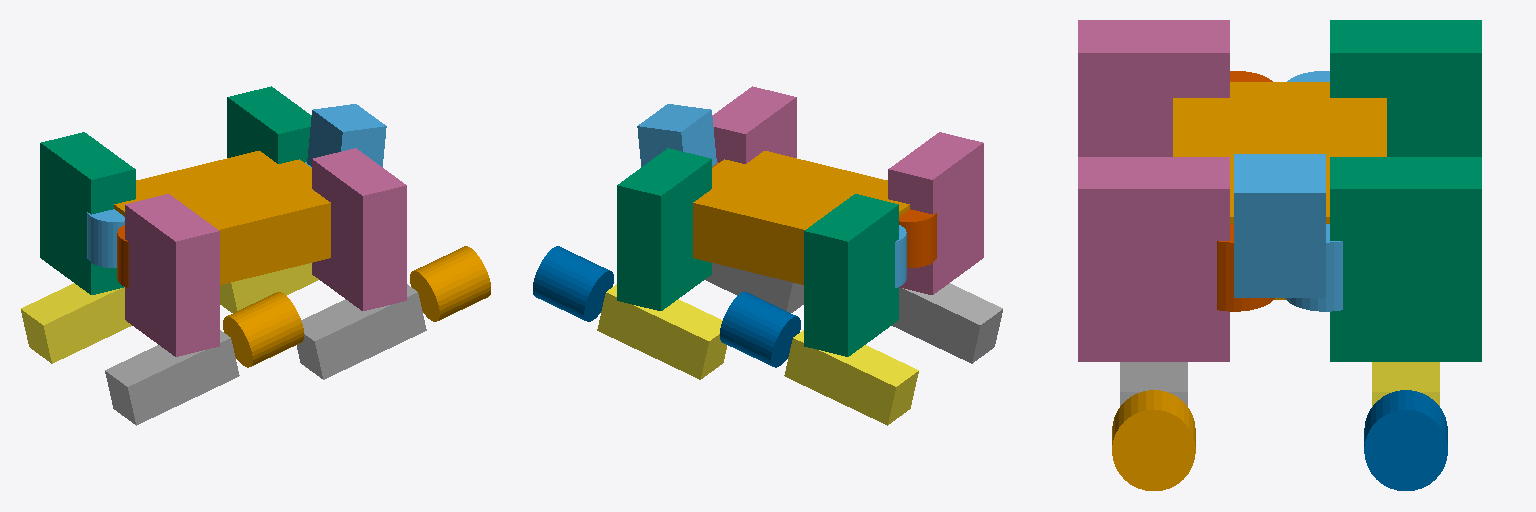
The robot description file, URDF, robot "As2W":
<robot name="As2W">
  <link name="base_link">
    <inertial>
      <origin xyz="0.035002 -0.0007562 0.017521" rpy="0 0 0"/>
      <mass value="10.08"/>
      <inertia ixx="0.05069483" ixy="-0.0002906" ixz="-0.02480435" iyy="0.13822065" iyz="0.00027717" izz="0.1505824"/>
    </inertial>
    <visual><geometry><box size="0.42 0.28 0.12"/></geometry></visual></link>
  <link name="FL_hip">
    <inertial>
      <origin xyz="-0.0046547 -0.0088505 3.4235E-05" rpy="0 0 0"/>
      <mass value="0.75"/>
      <inertia ixx="0.00049181" ixy="3.528E-05" ixz="-1.8E-07" iyy="0.0006194" iyz="9E-07" izz="0.00059384"/>
    </inertial>
    <visual><geometry><cylinder radius="0.055" length="0.10"/></geometry></visual></link>
  <joint name="FL_hip" type="revolute">
    <origin xyz="0.2119 0.06 0" rpy="0 0 0"/>
    <parent link="base_link"/>
    <child link="FL_hip"/>
    <axis xyz="1 0 0"/>
    <limit lower="-0.785" upper="0.785" effort="60" velocity="25"/>
  </joint>
  <link name="FL_thigh">
    <inertial>
      <origin xyz="-0.0060187 -0.02408 -0.037399" rpy="0 0 0"/>
      <mass value="1.41"/>
      <inertia ixx="0.00681859" ixy="0.00023526" ixz="-0.00071654" iyy="0.00613083" iyz="0.00120069" izz="0.00178083"/>
    </inertial>
    <visual><geometry><box size="0.10 0.20 0.25"/></geometry></visual></link>
  <joint name="FL_thigh" type="revolute">
    <origin xyz="0 0.1054 0" rpy="0 0 0"/>
    <parent link="FL_hip"/>
    <child link="FL_thigh"/>
    <axis xyz="0 1 0"/>
    <limit lower="-2" upper="3.492" effort="60" velocity="25"/>
  </joint>
  <link name="FL_calf">
    <inertial>
      <origin xyz="0.0015109 0.0022187 -0.16915" rpy="0 0 0"/>
      <mass value="1.1"/>
      <inertia ixx="0.0067061" ixy="3.87E-06" ixz="-3.5E-07" iyy="0.0067667" iyz="9.146E-05" izz="0.00061164"/>
    </inertial>
    <visual><geometry><box size="0.09 0.09 0.24"/></geometry></visual></link>
  <joint name="FL_calf" type="revolute">
    <origin xyz="0 0 -0.212" rpy="0 0 0"/>
    <parent link="FL_thigh"/>
    <child link="FL_calf"/>
    <axis xyz="0 1 0"/>
    <limit lower="-2.7677" upper="-0.8133" effort="90" velocity="16.67"/>
  </joint>
  <link name="FL_foot">
    <inertial>
      <origin xyz="2.7756E-17 0.053412 8.3267E-16" rpy="0 0 0"/>
      <mass value="0.595"/>
      <inertia ixx="0.0014579" ixy="0" ixz="0" iyy="0.0025769" iyz="0" izz="0.0014579"/>
    </inertial>
    <visual><geometry><cylinder radius="0.055" length="0.12"/></geometry></visual></link>
  <joint name="FL_foot" type="continuous">
    <origin xyz="0 0 -0.212" rpy="0 0 0"/>
    <parent link="FL_calf"/>
    <child link="FL_foot"/>
    <axis xyz="0 1 0"/>
    <limit effort="15" velocity="98.47"/>
  </joint>
  <link name="FR_hip">
    <inertial>
      <origin xyz="-0.0046547 0.0088505 3.4234E-05" rpy="0 0 0"/>
      <mass value="0.75"/>
      <inertia ixx="0.00049181" ixy="-3.527E-05" ixz="-1.8E-07" iyy="0.0006194" iyz="-9E-07" izz="0.00059384"/>
    </inertial>
    <visual><geometry><cylinder radius="0.055" length="0.10"/></geometry></visual></link>
  <joint name="FR_hip" type="revolute">
    <origin xyz="0.2119 -0.06 0" rpy="0 0 0"/>
    <parent link="base_link"/>
    <child link="FR_hip"/>
    <axis xyz="1 0 0"/>
    <limit lower="-0.785" upper="0.785" effort="60" velocity="25"/>
  </joint>
  <link name="FR_thigh">
    <inertial>
      <origin xyz="-0.0060187 0.02408 -0.037399" rpy="0 0 0"/>
      <mass value="1.41"/>
      <inertia ixx="0.00681875" ixy="-0.00023526" ixz="-0.00071655" iyy="0.00613099" iyz="-0.00120071" izz="0.00178083"/>
    </inertial>
    <visual><geometry><box size="0.10 0.20 0.25"/></geometry></visual></link>
  <joint name="FR_thigh" type="revolute">
    <origin xyz="0 -0.1054 0" rpy="0 0 0"/>
    <parent link="FR_hip"/>
    <child link="FR_thigh"/>
    <axis xyz="0 1 0"/>
    <limit lower="-2" upper="3.492" effort="60" velocity="25"/>
  </joint>
  <link name="FR_calf">
    <inertial>
      <origin xyz="0.0015111 -0.0022187 -0.16915" rpy="0 0 0"/>
      <mass value="1.1"/>
      <inertia ixx="0.0067059" ixy="-3.88E-06" ixz="-3.3E-07" iyy="0.0067665" iyz="-9.144E-05" izz="0.00061165"/>
    </inertial>
    <visual><geometry><box size="0.09 0.09 0.24"/></geometry></visual></link>
  <joint name="FR_calf" type="revolute">
    <origin xyz="0 0 -0.212" rpy="0 0 0"/>
    <parent link="FR_thigh"/>
    <child link="FR_calf"/>
    <axis xyz="0 1 0"/>
    <limit lower="-2.7677" upper="-0.8133" effort="90" velocity="16.67"/>
  </joint>
  <link name="FR_foot">
    <inertial>
      <origin xyz="5.5511E-17 -0.053412 8.3267E-16" rpy="0 0 0"/>
      <mass value="0.595"/>
      <inertia ixx="0.0014579" ixy="0" ixz="0" iyy="0.0025769" iyz="0" izz="0.0014579"/>
    </inertial>
    <visual><geometry><cylinder radius="0.055" length="0.12"/></geometry></visual></link>
  <joint name="FR_foot" type="continuous">
    <origin xyz="0 0 -0.212" rpy="0 0 0"/>
    <parent link="FR_calf"/>
    <child link="FR_foot"/>
    <axis xyz="0 1 0"/>
    <limit effort="15" velocity="98.47"/>
  </joint>
  <link name="RL_hip">
    <inertial>
      <origin xyz="0.0046637 -0.0088505 -3.8901E-05" rpy="0 0 0"/>
      <mass value="0.75"/>
      <inertia ixx="0.0004918" ixy="-3.549E-05" ixz="-2E-07" iyy="0.00061933" iyz="-7.9E-07" izz="0.00059378"/>
    </inertial>
    <visual><geometry><cylinder radius="0.055" length="0.10"/></geometry></visual></link>
  <joint name="RL_hip" type="revolute">
    <origin xyz="-0.2119 0.06 0" rpy="0 0 0"/>
    <parent link="base_link"/>
    <child link="RL_hip"/>
    <axis xyz="1 0 0"/>
    <limit lower="-0.785" upper="0.785" effort="60" velocity="25"/>
  </joint>
  <link name="RL_thigh">
    <inertial>
      <origin xyz="-0.0068767 -0.022228 -0.039019" rpy="0 0 0"/>
      <mass value="1.41"/>
      <inertia ixx="0.0069198" ixy="0.00019339" ixz="-0.00070171" iyy="0.0062719" iyz="0.001158" izz="0.0017134"/>
    </inertial>
    <visual><geometry><box size="0.10 0.20 0.25"/></geometry></visual></link>
  <joint name="RL_thigh" type="revolute">
    <origin xyz="0 0.1054 0" rpy="0 0 0"/>
    <parent link="RL_hip"/>
    <child link="RL_thigh"/>
    <axis xyz="0 1 0"/>
    <limit lower="-1.3" upper="4.19" effort="60" velocity="25"/>
  </joint>
  <link name="RL_calf">
    <inertial>
      <origin xyz="0.0010538 0.0023186 -0.18449" rpy="0 0 0"/>
      <mass value="1.1"/>
      <inertia ixx="0.0049046" ixy="2.76E-06" ixz="-1.873E-05" iyy="0.0050599" iyz="6.496E-05" izz="0.00054577"/>
    </inertial>
    <visual><geometry><box size="0.09 0.09 0.24"/></geometry></visual></link>
  <joint name="RL_calf" type="revolute">
    <origin xyz="0 0 -0.212" rpy="0 0 0"/>
    <parent link="RL_thigh"/>
    <child link="RL_calf"/>
    <axis xyz="0 1 0"/>
    <limit lower="-2.7677" upper="-0.8133" effort="90" velocity="16.67"/>
  </joint>
  <link name="RL_foot">
    <inertial>
      <origin xyz="1.1102E-16 0.053412 8.8818E-16" rpy="0 0 0"/>
      <mass value="0.595"/>
      <inertia ixx="0.0014579" ixy="0" ixz="0" iyy="0.0025769" iyz="0" izz="0.0014579"/>
    </inertial>
    <visual><geometry><cylinder radius="0.055" length="0.12"/></geometry></visual></link>
  <joint name="RL_foot" type="continuous">
    <origin xyz="0 0 -0.212" rpy="0 0 0"/>
    <parent link="RL_calf"/>
    <child link="RL_foot"/>
    <axis xyz="0 1 0"/>
    <limit effort="15" velocity="98.47"/>
  </joint>
  <link name="RR_hip">
    <inertial>
      <origin xyz="0.0046637 0.0088505 -3.89E-05" rpy="0 0 0"/>
      <mass value="0.75"/>
      <inertia ixx="0.00049181" ixy="3.549E-05" ixz="-2E-07" iyy="0.00061933" iyz="7.9E-07" izz="0.00059378"/>
    </inertial>
    <visual><geometry><cylinder radius="0.055" length="0.10"/></geometry></visual></link>
  <joint name="RR_hip" type="revolute">
    <origin xyz="-0.2119 -0.06 0" rpy="0 0 0"/>
    <parent link="base_link"/>
    <child link="RR_hip"/>
    <axis xyz="1 0 0"/>
    <limit lower="-0.785" upper="0.785" effort="60" velocity="25"/>
  </joint>
  <link name="RR_thigh">
    <inertial>
      <origin xyz="-0.0068763 0.022228 -0.039019" rpy="0 0 0"/>
      <mass value="1.41"/>
      <inertia ixx="0.00691991" ixy="-0.00019339" ixz="-0.00070172" iyy="0.00627201" iyz="-0.001158" izz="0.00171336"/>
    </inertial>
    <visual><geometry><box size="0.10 0.20 0.25"/></geometry></visual></link>
  <joint name="RR_thigh" type="revolute">
    <origin xyz="0 -0.1054 0" rpy="0 0 0"/>
    <parent link="RR_hip"/>
    <child link="RR_thigh"/>
    <axis xyz="0 1 0"/>
    <limit lower="-1.3" upper="4.19" effort="60" velocity="25"/>
  </joint>
  <link name="RR_calf">
    <inertial>
      <origin xyz="0.001054 -0.0023186 -0.18449" rpy="0 0 0"/>
      <mass value="1.1"/>
      <inertia ixx="0.0049045" ixy="-2.77E-06" ixz="-1.872E-05" iyy="0.0050598" iyz="-6.496E-05" izz="0.00054577"/>
    </inertial>
    <visual><geometry><box size="0.09 0.09 0.24"/></geometry></visual></link>
  <joint name="RR_calf" type="revolute">
    <origin xyz="0 0 -0.212" rpy="0 0 0"/>
    <parent link="RR_thigh"/>
    <child link="RR_calf"/>
    <axis xyz="0 1 0"/>
    <limit lower="-2.7677" upper="-0.8133" effort="90" velocity="16.67"/>
  </joint>
  <link name="RR_foot">
    <inertial>
      <origin xyz="1.1102E-16 -0.053412 8.8818E-16" rpy="0 0 0"/>
      <mass value="0.595"/>
      <inertia ixx="0.0014579" ixy="0" ixz="0" iyy="0.0025769" iyz="0" izz="0.0014579"/>
    </inertial>
    <visual><geometry><cylinder radius="0.055" length="0.12"/></geometry></visual></link>
  <joint name="RR_foot" type="continuous">
    <origin xyz="0 0 -0.212" rpy="0 0 0"/>
    <parent link="RR_calf"/>
    <child link="RR_foot"/>
    <axis xyz="0 1 0"/>
    <limit effort="15" velocity="98.47"/>
  </joint>
  <link name="JT128">
    <inertial>
      <origin xyz="0.0011355 0.00042838 -0.015107" rpy="0 0 0"/>
      <mass value="0.5"/>
      <inertia ixx="0.00053309" ixy="-3.8E-07" ixz="1.84E-06" iyy="0.00054088" iyz="1.242E-05" izz="0.00053064"/>
    </inertial>
    <visual><geometry><box size="0.16 0.12 0.10"/></geometry></visual></link>
  <joint name="JT128" type="fixed">
    <origin xyz="0.27666 0 0.078863" rpy="-3.1416 1.4661 -3.1416"/>
    <parent link="base_link"/>
    <child link="JT128"/>
    <axis xyz="0 0 0"/>
  </joint>
</robot>

--- Facts derived from the render (not from the file) ---
3 views of the same robot in one strip: view 1: azimuth 30°, elevation 25°; view 2: azimuth 150°, elevation 25°; view 3: azimuth 270°, elevation 25° (orthographic).
Robot: As2W — 18 links, 17 joints (12 revolute, 4 continuous, 1 fixed); root link base_link; default pose: all joints at 0 but 4 set to mid-range because 0 is outside their limits (FL_calf = -1.79, FR_calf = -1.79, RL_calf = -1.79, RR_calf = -1.79).
Links seen in each view (by area): view 1: base_link, RR_thigh, FR_thigh, RL_thigh, RR_calf, FR_calf, RL_calf, FL_thigh, FR_foot, RR_foot, JT128, FL_calf (+2 smaller); view 2: base_link, RL_thigh, FL_thigh, RR_thigh, RL_calf, FL_calf, RR_calf, FR_thigh, FL_foot, RL_foot, JT128, FR_calf (+2 smaller); view 3: FL_thigh, FR_thigh, RL_thigh, RR_thigh, base_link, JT128, FL_foot, FR_foot, FL_calf, FR_calf, FL_hip, FR_hip.
Link boxes in pixels (x1=…): base_link: x1=114, y1=151, x2=330, y2=284; RR_thigh: x1=125, y1=194, x2=219, y2=356; FR_thigh: x1=312, y1=148, x2=406, y2=310; RL_thigh: x1=40, y1=132, x2=135, y2=294; RR_calf: x1=105, y1=330, x2=239, y2=425; FR_calf: x1=297, y1=284, x2=426, y2=379; RL_calf: x1=21, y1=283, x2=131, y2=363; FL_thigh: x1=227, y1=86, x2=311, y2=163; FR_foot: x1=410, y1=246, x2=490, y2=321; RR_foot: x1=223, y1=292, x2=303, y2=367; JT128: x1=307, y1=104, x2=386, y2=166; FL_calf: x1=220, y1=263, x2=318, y2=312; base_link: x1=693, y1=151, x2=909, y2=284; RL_thigh: x1=804, y1=194, x2=898, y2=356; FL_thigh: x1=617, y1=148, x2=711, y2=310; RR_thigh: x1=888, y1=132, x2=983, y2=294; RL_calf: x1=784, y1=330, x2=918, y2=425; FL_calf: x1=597, y1=284, x2=726, y2=379; RR_calf: x1=892, y1=283, x2=1002, y2=363; FR_thigh: x1=712, y1=86, x2=796, y2=163; FL_foot: x1=533, y1=246, x2=613, y2=321; RL_foot: x1=720, y1=292, x2=800, y2=367; JT128: x1=637, y1=104, x2=716, y2=166; FR_calf: x1=705, y1=263, x2=803, y2=312; FL_thigh: x1=1330, y1=157, x2=1481, y2=361; FR_thigh: x1=1078, y1=157, x2=1229, y2=361; RL_thigh: x1=1330, y1=20, x2=1481, y2=156; RR_thigh: x1=1078, y1=20, x2=1229, y2=156; base_link: x1=1173, y1=82, x2=1386, y2=299; JT128: x1=1234, y1=154, x2=1325, y2=297; FL_foot: x1=1364, y1=390, x2=1447, y2=490; FR_foot: x1=1112, y1=390, x2=1195, y2=490; FL_calf: x1=1372, y1=362, x2=1439, y2=406; FR_calf: x1=1120, y1=362, x2=1187, y2=406; FL_hip: x1=1285, y1=224, x2=1342, y2=311; FR_hip: x1=1217, y1=224, x2=1274, y2=311.
Bounding box of the posed robot: 0.8282 × 0.5308 × 0.4457 m (x, y, z).
Geometry: primitives only (box / cylinder / sphere), no mesh files.
